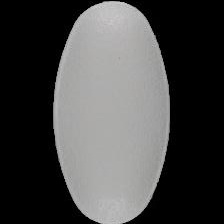54868-6321: (0, 0, 224, 224)
